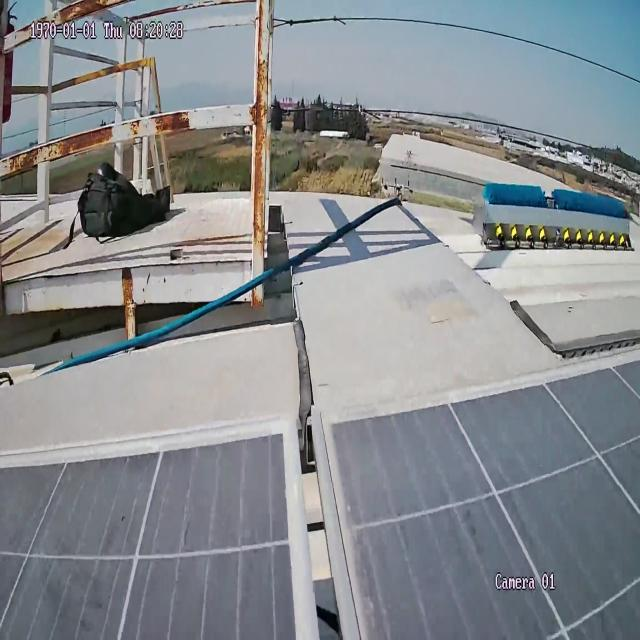interior panel: (245, 369, 441, 640)
outher panel: (0, 123, 640, 446)
